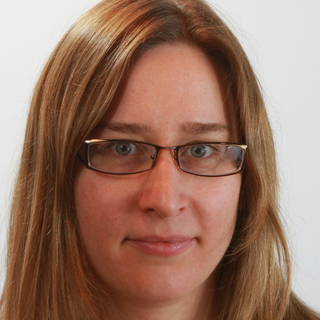eye: (183, 138, 225, 164), (101, 135, 143, 158)
